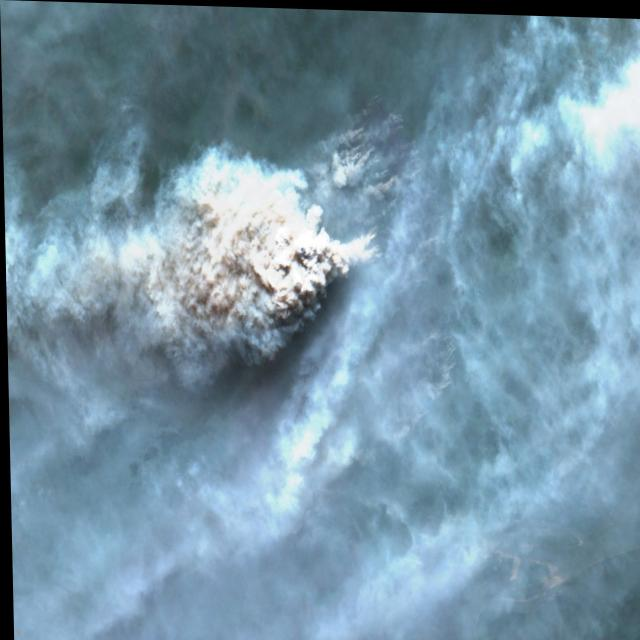fire: (324, 89, 460, 466)
